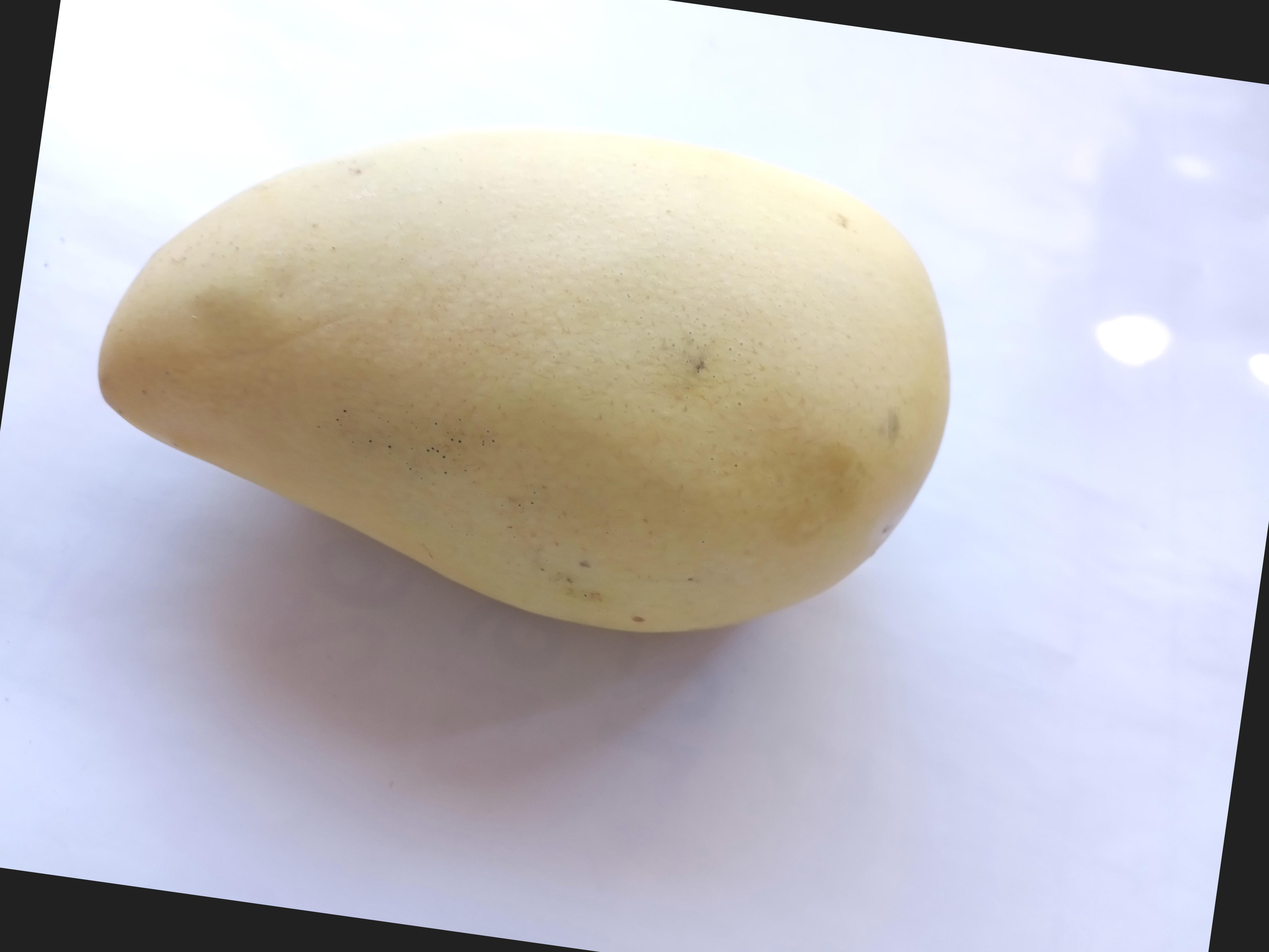Mango Ripe: (103, 0, 1152, 609)
